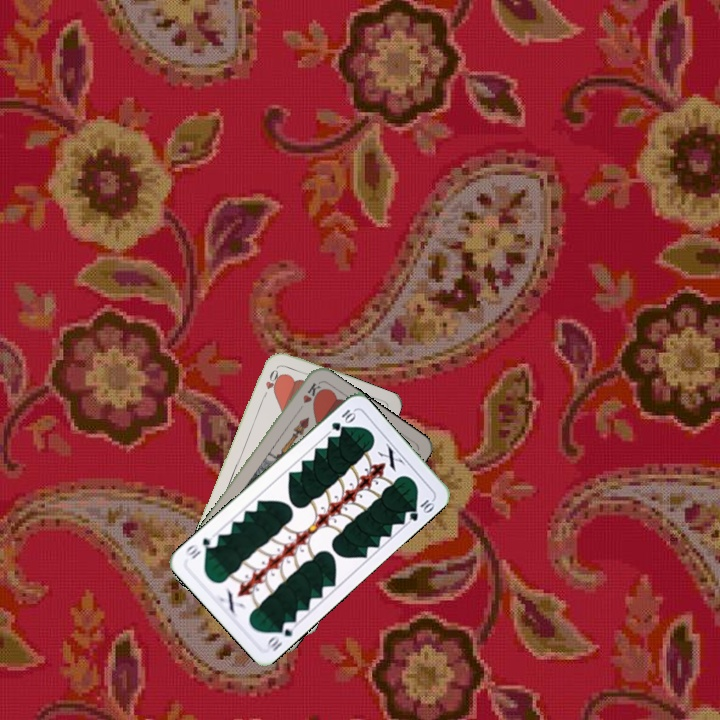G10: (263, 617, 298, 654), (327, 405, 358, 434)
HK: (293, 379, 324, 415)
HO: (258, 363, 281, 402)
